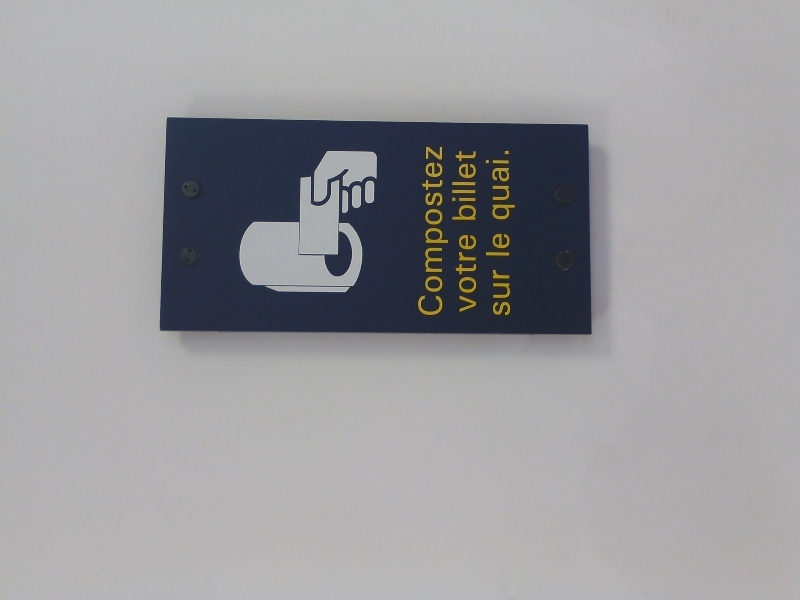text: (433, 145, 449, 319), (421, 145, 432, 319), (497, 149, 512, 220), (465, 233, 477, 314), (451, 149, 464, 222), (465, 149, 477, 222), (484, 149, 496, 220), (455, 233, 464, 314), (497, 268, 511, 318), (497, 231, 511, 259), (485, 231, 496, 259), (513, 149, 516, 220), (492, 268, 496, 318)
